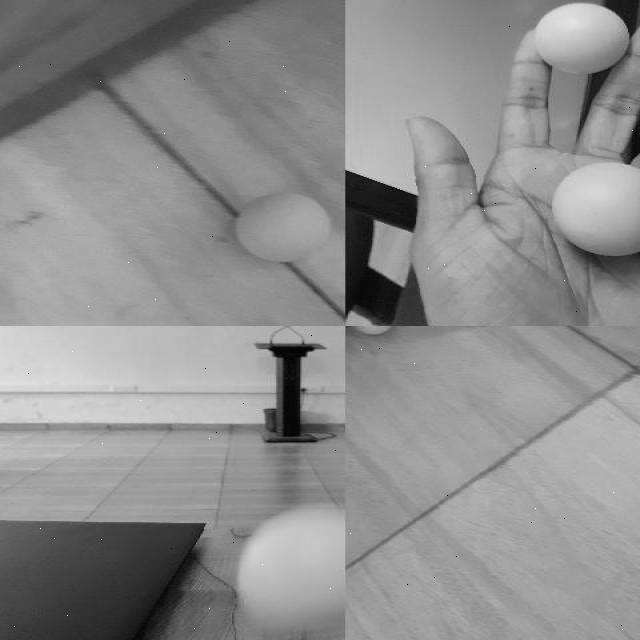ping-pong-ball: (234, 507, 344, 638), (550, 162, 638, 255), (234, 192, 332, 264), (536, 1, 630, 73)
